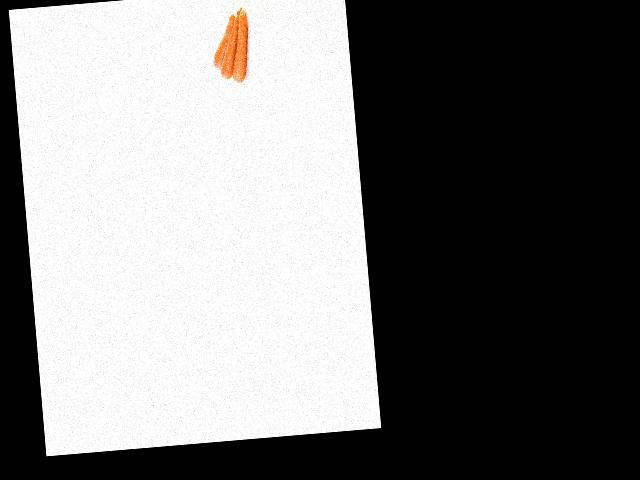carrot: (226, 9, 256, 86)
